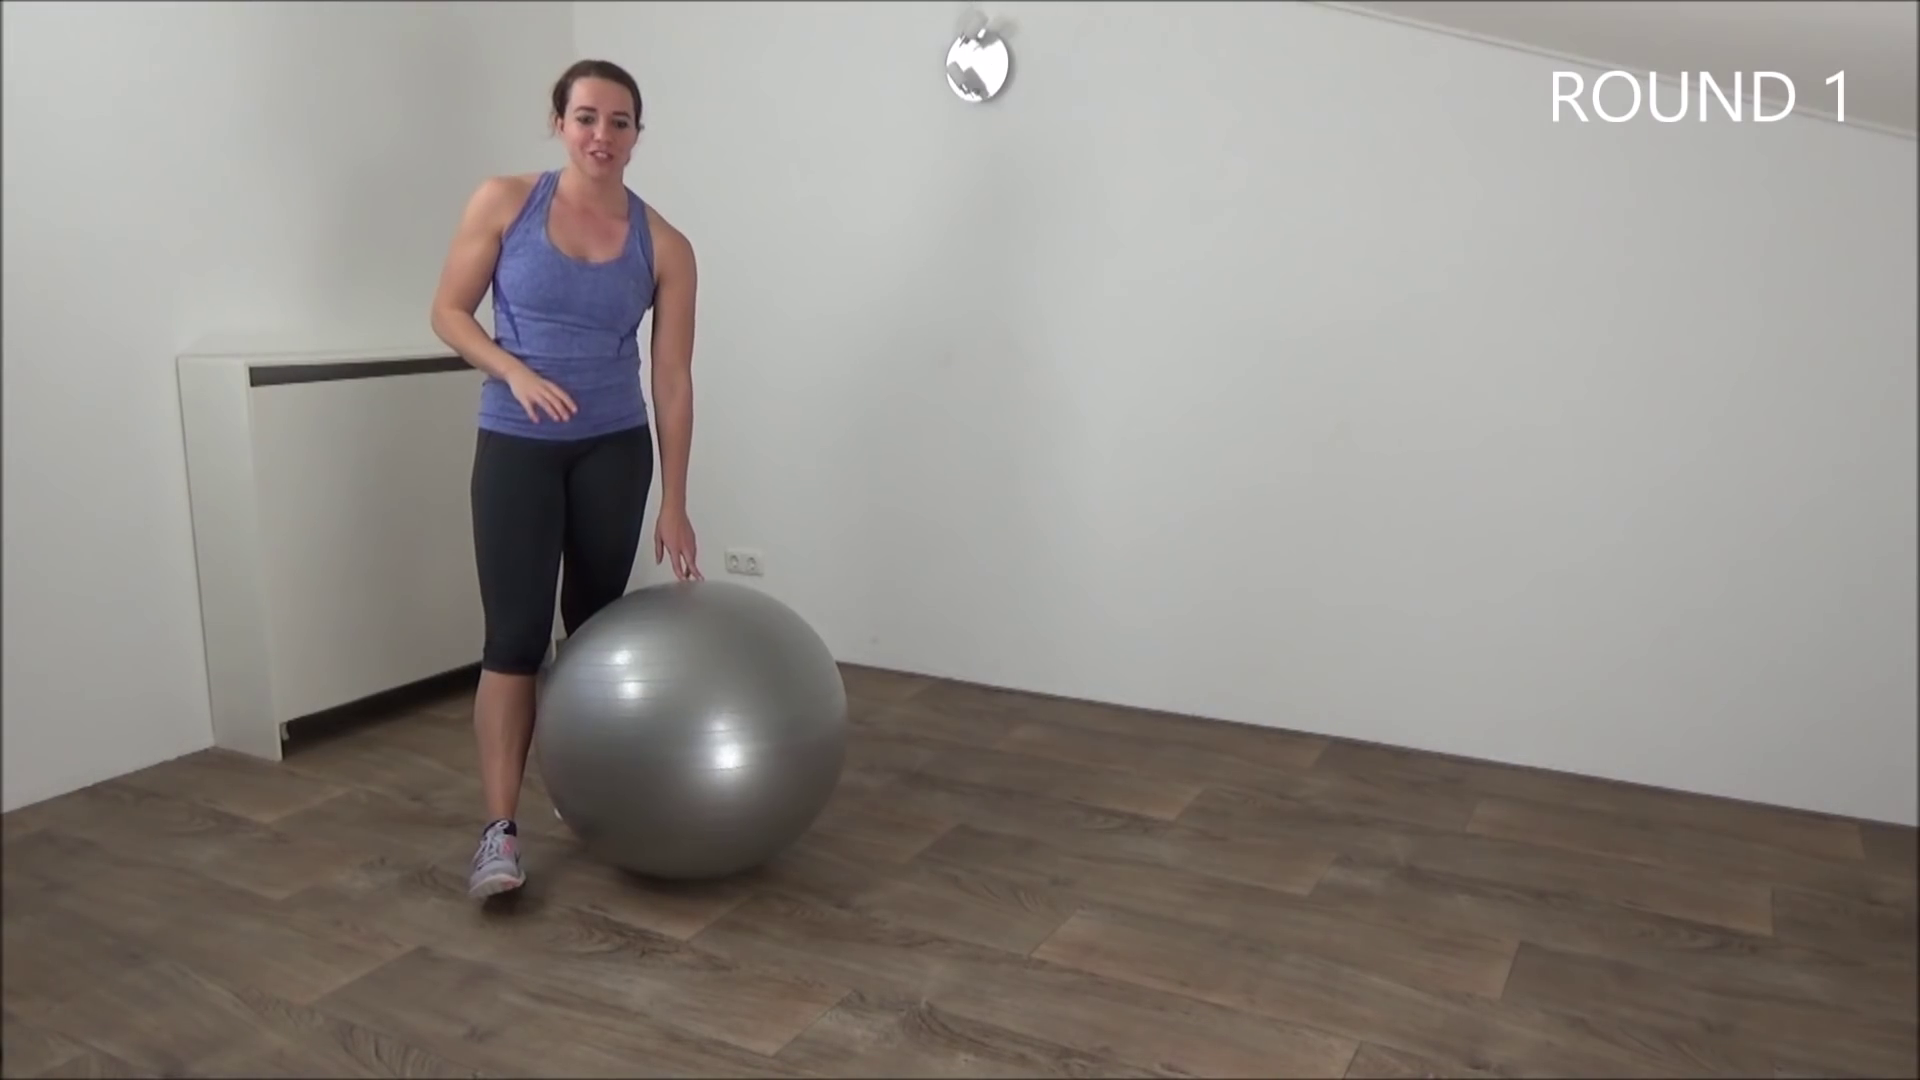yogaball: (512, 556, 903, 905)
